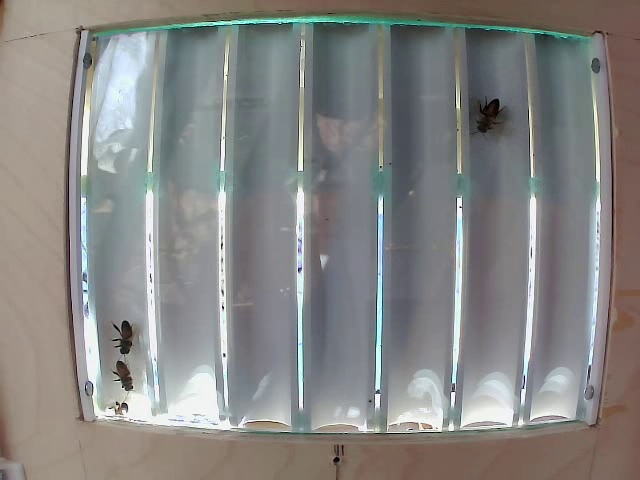bee: (465, 81, 509, 150), (95, 309, 140, 349), (111, 356, 138, 388)
